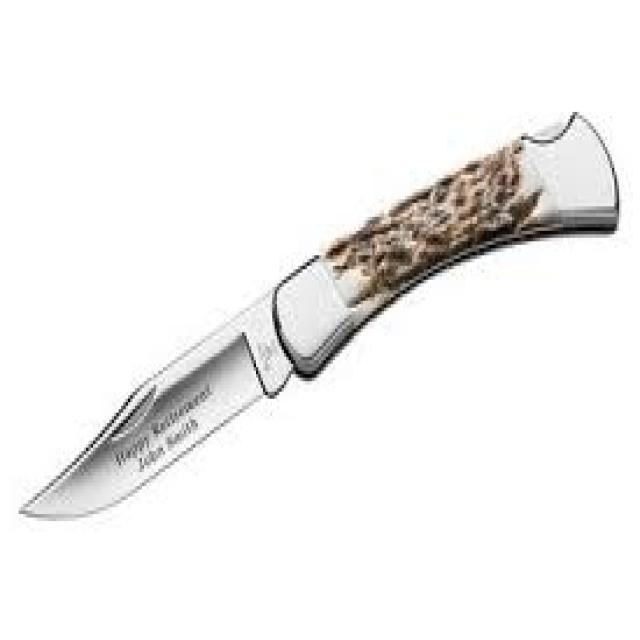knife: (11, 92, 621, 569)
